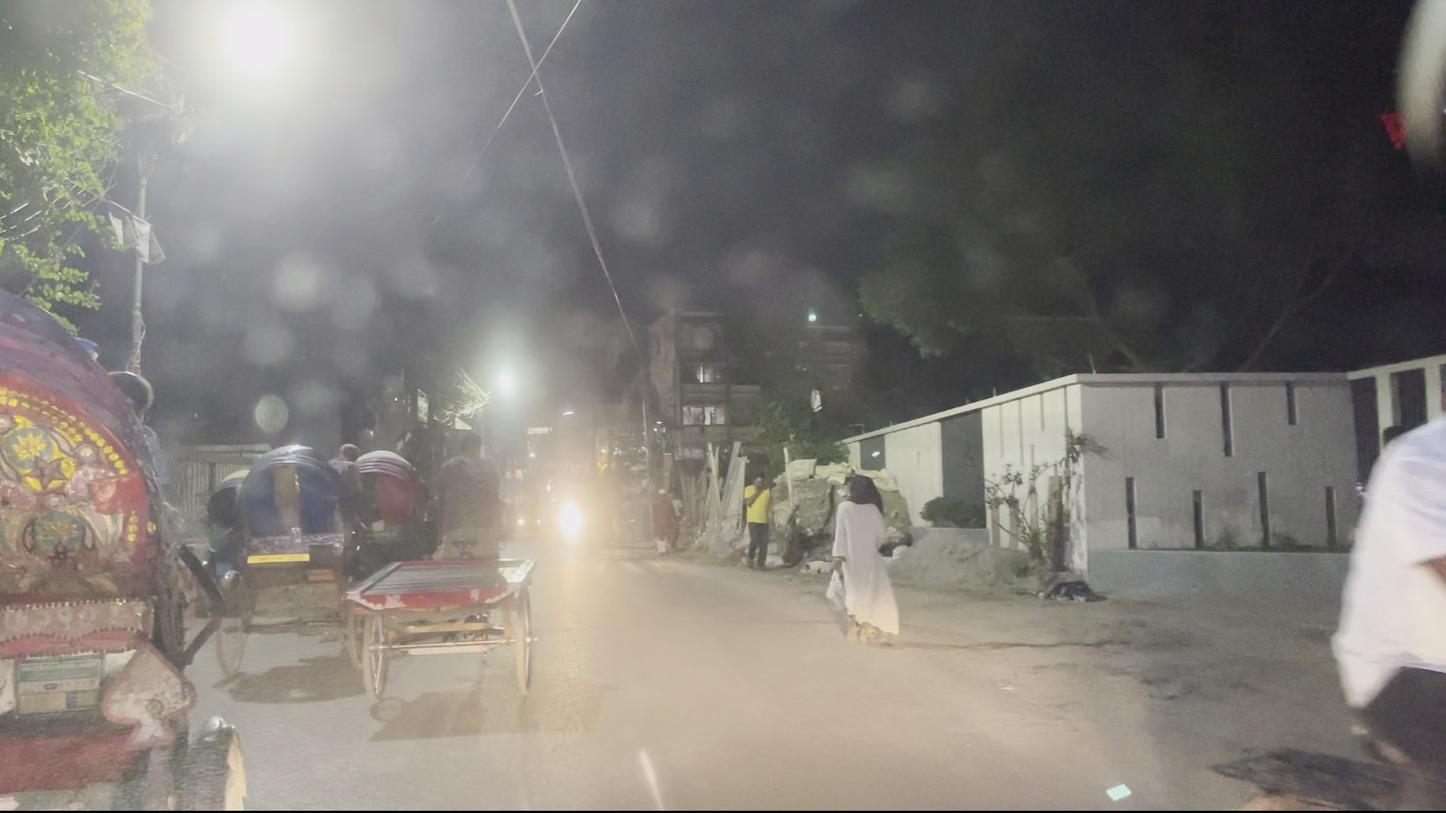person: (802, 455, 905, 640), (741, 470, 778, 577)
